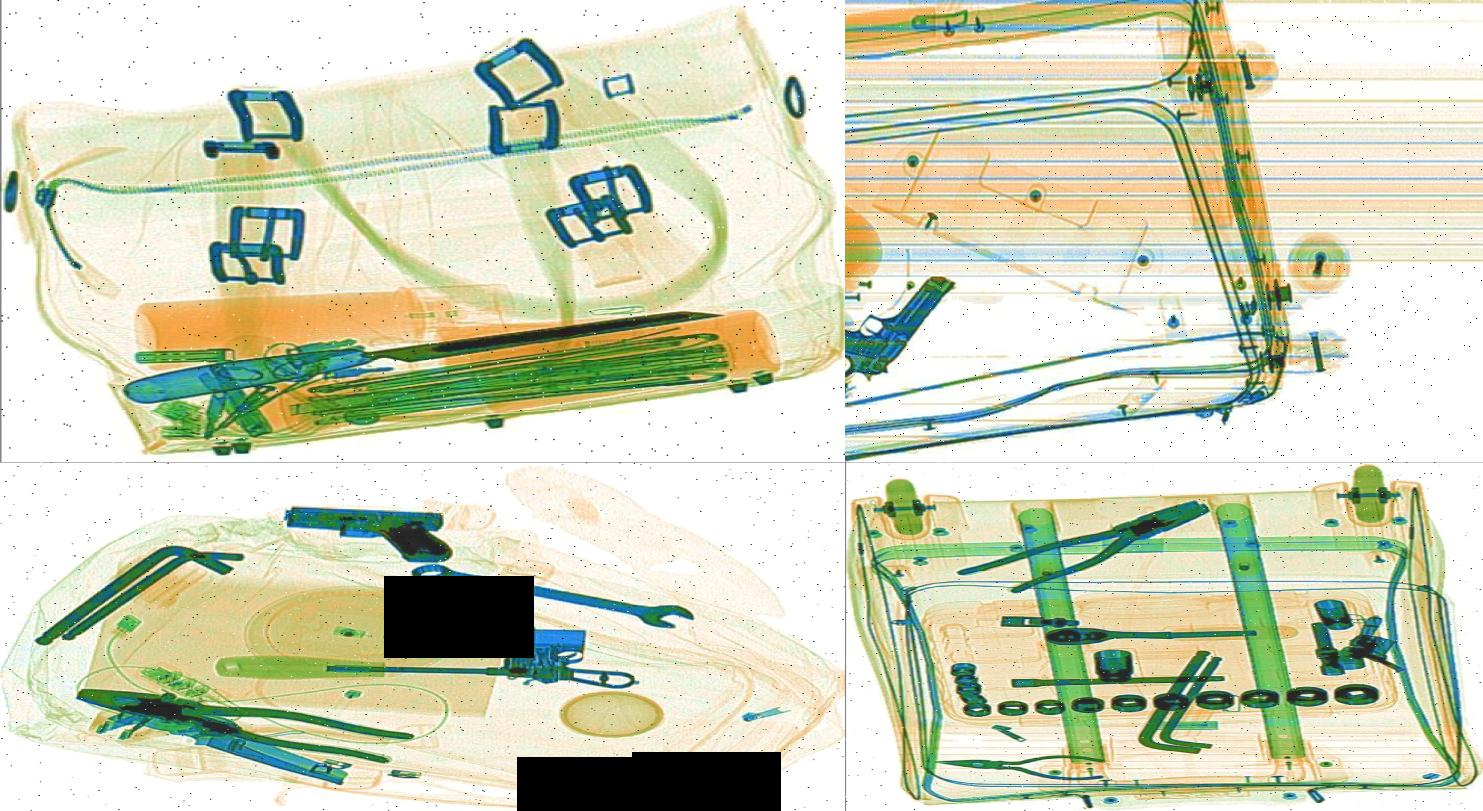Gun: (498, 579, 657, 688), (845, 257, 965, 381), (284, 504, 455, 561), (1339, 613, 1431, 672)
Knife: (118, 292, 732, 403)
Pliers: (60, 677, 426, 764), (956, 487, 1226, 601), (932, 748, 1108, 782)
Wrench: (401, 557, 712, 631)
